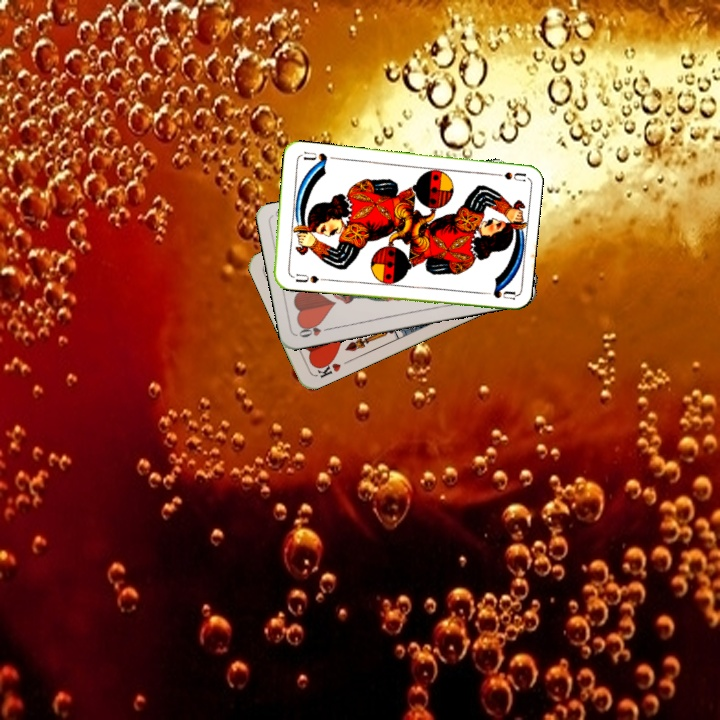HK: (312, 355, 344, 381)
HO: (295, 320, 334, 340)
SU: (486, 168, 527, 184), (286, 270, 321, 286)
